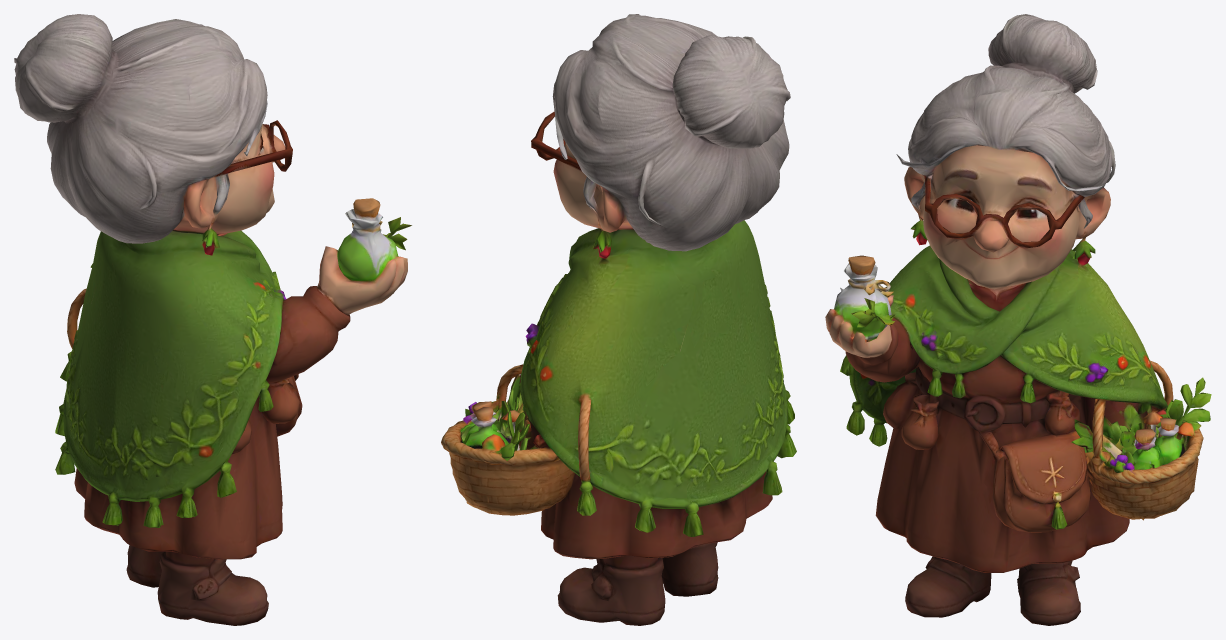
The model's file is healer.glb.
3 renders of one model, left to right at view 1: azimuth 30°, elevation 25°; view 2: azimuth 150°, elevation 25°; view 3: azimuth 270°, elevation 25°, orthographic. The views are drawn at different scales.
Visible parts, largest first — view 1: tripo_node_5247041e-a90e-4ad2-b3a2-f39ad227f1c3; view 2: tripo_node_5247041e-a90e-4ad2-b3a2-f39ad227f1c3; view 3: tripo_node_5247041e-a90e-4ad2-b3a2-f39ad227f1c3.
Part boxes in pixels (x1=…): tripo_node_5247041e-a90e-4ad2-b3a2-f39ad227f1c3: x1=14, y1=14, x2=411, y2=625; tripo_node_5247041e-a90e-4ad2-b3a2-f39ad227f1c3: x1=441, y1=14, x2=796, y2=625; tripo_node_5247041e-a90e-4ad2-b3a2-f39ad227f1c3: x1=825, y1=14, x2=1211, y2=625.
Bounding box in the file's own units: 0.2945 × 0.55 × 0.355.
1 material, 1 textured.
